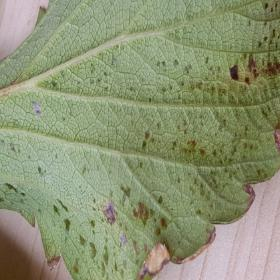Angular Leafspot: (0, 0, 279, 279)
